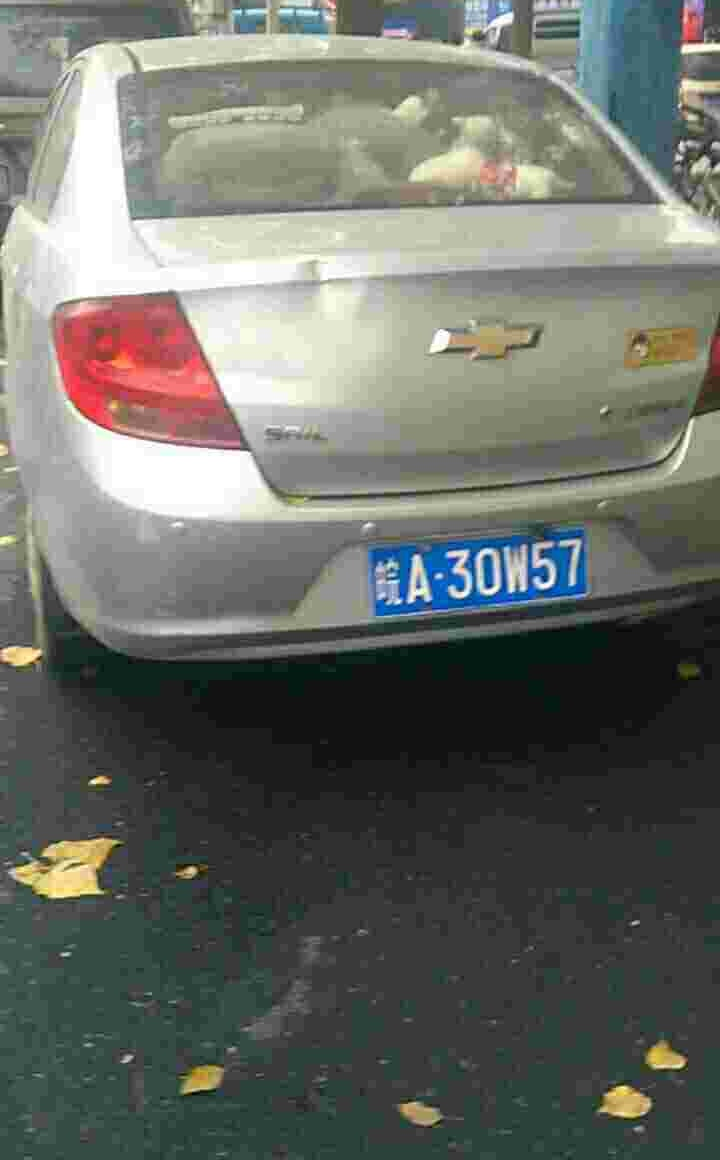license_plate: (369, 531, 584, 626)
